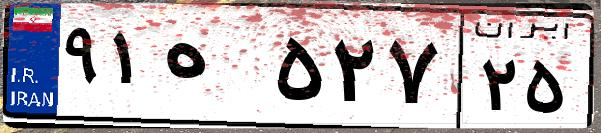1: (110, 28, 158, 98)
2: (330, 28, 385, 110), (475, 38, 525, 113)
5: (270, 28, 330, 110), (525, 38, 570, 115)
7: (385, 28, 445, 110)
9: (57, 26, 110, 100)
ه: (158, 20, 270, 120)
